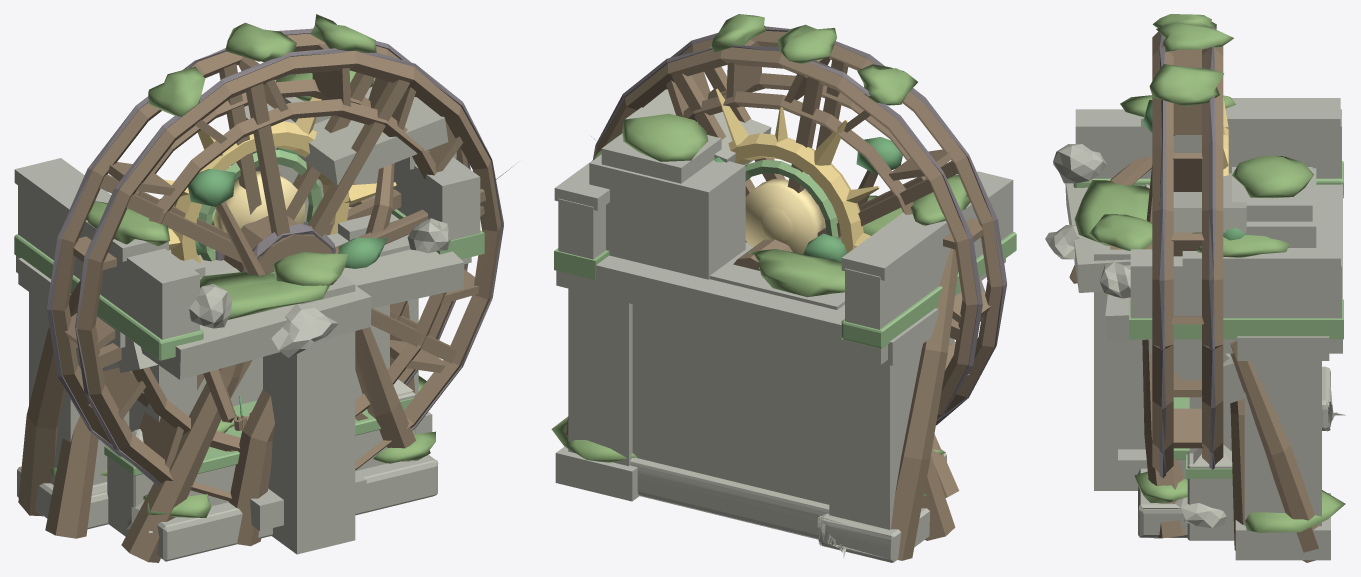
The model's file is VerdantF2Kit.fbx.
3 views of the same model, side by side, from view 1: azimuth 30°, elevation 25°; view 2: azimuth 150°, elevation 25°; view 3: azimuth 270°, elevation 25° (orthographic). The views are drawn at different scales.
Parts seen in each view (by area): view 1: Waterwheel__WOOD, AqueductBrokenSpan__TRIM, Waterwheel__TRIM, SunDiscShrine__TRIM, Waterwheel__METAL, Waterwheel__MOSS, AqueductBrokenSpan__WOOD, AqueductBrokenSpan__MOSS, SunDiscShrine__GOLD, AqueductBrokenSpan__ACCENT, SunDiscShrine__ACCENT, Waterwheel__FOLIAGE (+3 smaller); view 2: Waterwheel__TRIM, AqueductBrokenSpan__TRIM, Waterwheel__WOOD, Waterwheel__MOSS, AqueductBrokenSpan__WOOD, SunDiscShrine__GOLD, Waterwheel__METAL, SunDiscShrine__GLOW, AqueductBrokenSpan__ACCENT, AqueductBrokenSpan__MOSS, Waterwheel__FOLIAGE, SunDiscShrine__ACCENT; view 3: AqueductBrokenSpan__TRIM, Waterwheel__WOOD, Waterwheel__TRIM, Waterwheel__MOSS, AqueductBrokenSpan__MOSS, AqueductBrokenSpan__WOOD, Waterwheel__METAL, AqueductBrokenSpan__ACCENT, SunDiscShrine__TRIM, SolmereBalustrade__TRIM, SunDiscShrine__MOSS, SolmereBalustrade__ACCENT (+2 smaller).
Boxes of the visible parts, x1=… form: Waterwheel__WOOD: x1=45, y1=33, x2=516, y2=562; AqueductBrokenSpan__TRIM: x1=14, y1=151, x2=480, y2=533; Waterwheel__TRIM: x1=91, y1=79, x2=448, y2=554; SunDiscShrine__TRIM: x1=129, y1=207, x2=438, y2=561; Waterwheel__METAL: x1=47, y1=28, x2=503, y2=486; Waterwheel__MOSS: x1=50, y1=14, x2=376, y2=477; AqueductBrokenSpan__WOOD: x1=18, y1=279, x2=235, y2=516; AqueductBrokenSpan__MOSS: x1=86, y1=201, x2=426, y2=391; SunDiscShrine__GOLD: x1=163, y1=97, x2=396, y2=263; AqueductBrokenSpan__ACCENT: x1=14, y1=209, x2=484, y2=360; SunDiscShrine__ACCENT: x1=198, y1=149, x2=381, y2=473; Waterwheel__FOLIAGE: x1=188, y1=148, x2=387, y2=268; Waterwheel__TRIM: x1=589, y1=89, x2=844, y2=539; AqueductBrokenSpan__TRIM: x1=554, y1=160, x2=1013, y2=562; Waterwheel__WOOD: x1=591, y1=31, x2=1002, y2=540; Waterwheel__MOSS: x1=622, y1=14, x2=927, y2=496; AqueductBrokenSpan__WOOD: x1=564, y1=248, x2=958, y2=560; SunDiscShrine__GOLD: x1=715, y1=88, x2=879, y2=253; Waterwheel__METAL: x1=593, y1=26, x2=1006, y2=425; SunDiscShrine__GLOW: x1=745, y1=179, x2=823, y2=254; AqueductBrokenSpan__ACCENT: x1=554, y1=232, x2=1016, y2=348; AqueductBrokenSpan__MOSS: x1=551, y1=134, x2=970, y2=462; Waterwheel__FOLIAGE: x1=714, y1=137, x2=902, y2=262; SunDiscShrine__ACCENT: x1=745, y1=159, x2=839, y2=238; AqueductBrokenSpan__TRIM: x1=1045, y1=98, x2=1345, y2=560; Waterwheel__WOOD: x1=1110, y1=31, x2=1244, y2=550; Waterwheel__TRIM: x1=1094, y1=167, x2=1316, y2=490; Waterwheel__MOSS: x1=1089, y1=14, x2=1316, y2=250; AqueductBrokenSpan__MOSS: x1=1074, y1=95, x2=1345, y2=532; AqueductBrokenSpan__WOOD: x1=1069, y1=156, x2=1318, y2=562; Waterwheel__METAL: x1=1159, y1=25, x2=1215, y2=478; AqueductBrokenSpan__ACCENT: x1=1073, y1=161, x2=1343, y2=339; SunDiscShrine__TRIM: x1=1118, y1=397, x2=1231, y2=537; SolmereBalustrade__TRIM: x1=1187, y1=444, x2=1234, y2=540; SunDiscShrine__MOSS: x1=1134, y1=471, x2=1187, y2=503; SolmereBalustrade__ACCENT: x1=1186, y1=454, x2=1232, y2=478.
Bounding box in the file's own units: 26.25 × 27.05 × 16.42.
